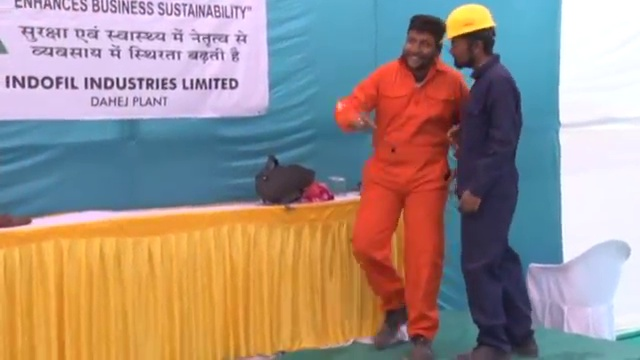helmet: (441, 3, 498, 44)
helmet_off: (400, 15, 444, 71)
helmet_on: (439, 3, 503, 77)
person: (341, 11, 464, 357), (438, 2, 540, 360)
